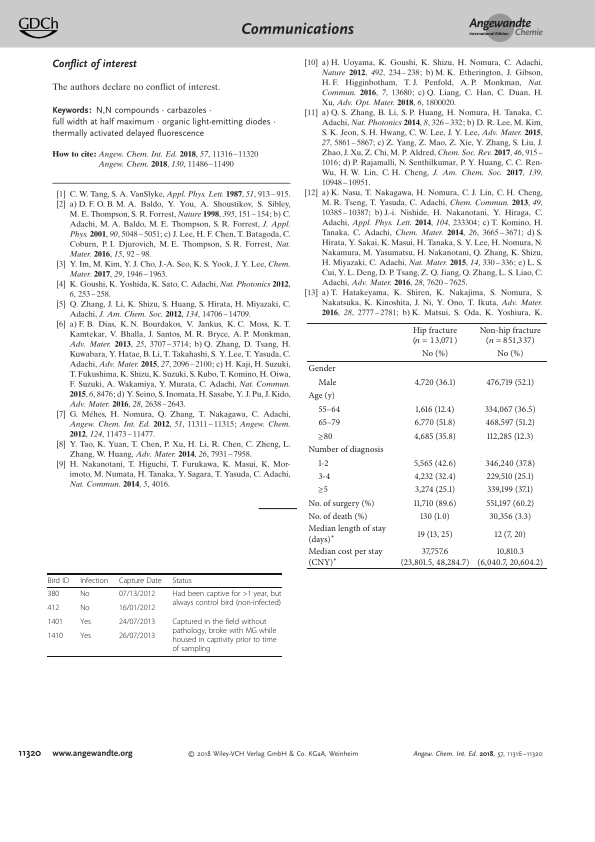borderless: (305, 321, 547, 568), (47, 572, 282, 656)
cell: (171, 617, 277, 654), (171, 589, 282, 608), (307, 523, 387, 545), (307, 546, 383, 568), (400, 546, 470, 568), (476, 546, 544, 568), (479, 325, 542, 348), (412, 325, 458, 348), (307, 444, 385, 455), (307, 498, 375, 508), (307, 511, 368, 522), (484, 404, 537, 415), (484, 458, 536, 469), (485, 377, 535, 388), (486, 471, 535, 482), (485, 418, 536, 428), (485, 498, 535, 508), (413, 377, 457, 388), (413, 458, 457, 469), (413, 471, 457, 482), (488, 511, 532, 522), (486, 431, 534, 441), (486, 485, 534, 495), (415, 404, 455, 415), (413, 431, 457, 441), (413, 498, 457, 508), (414, 418, 456, 428), (414, 485, 456, 495), (118, 576, 162, 585), (416, 529, 454, 539), (118, 589, 156, 599), (118, 603, 156, 613), (118, 617, 156, 627), (118, 631, 156, 641), (419, 511, 451, 522), (307, 363, 337, 374), (494, 529, 527, 539), (307, 390, 336, 401), (421, 349, 449, 359), (496, 349, 524, 359), (79, 576, 109, 585), (317, 404, 341, 415), (317, 418, 341, 428), (317, 428, 333, 443), (317, 377, 337, 388), (47, 576, 70, 585), (171, 576, 193, 585), (317, 481, 329, 497), (47, 617, 64, 627), (47, 631, 64, 641), (317, 471, 331, 482), (317, 458, 329, 469), (47, 589, 60, 599), (47, 603, 60, 613), (79, 617, 92, 627), (79, 631, 92, 641), (79, 589, 90, 599), (79, 603, 90, 613)
